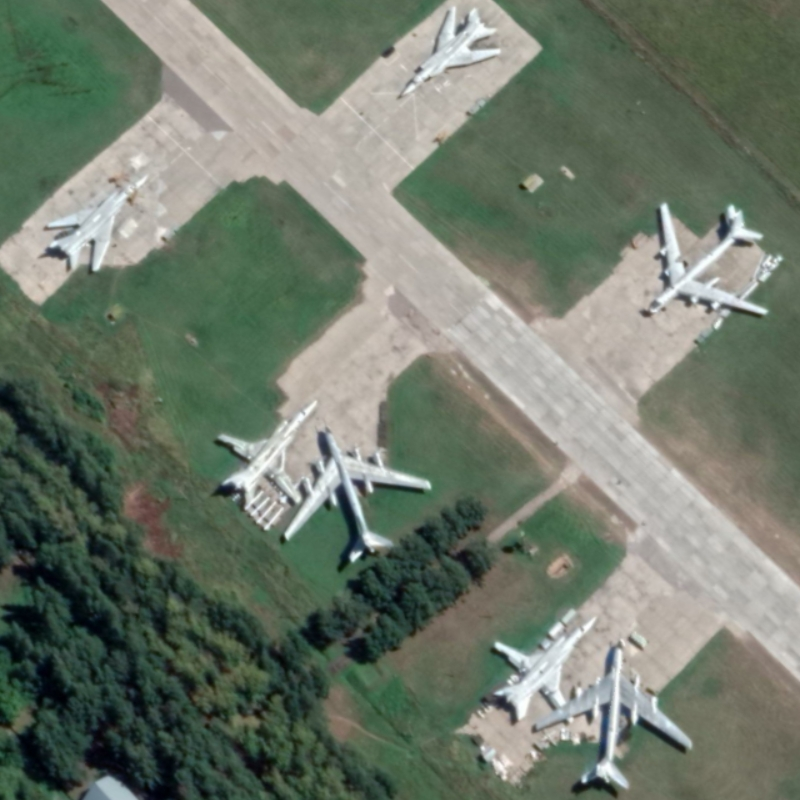A12: (491, 614, 599, 726), (214, 398, 319, 512), (44, 173, 150, 275), (397, 5, 503, 100)
A17: (532, 637, 694, 792), (281, 424, 435, 565), (646, 200, 770, 319)
